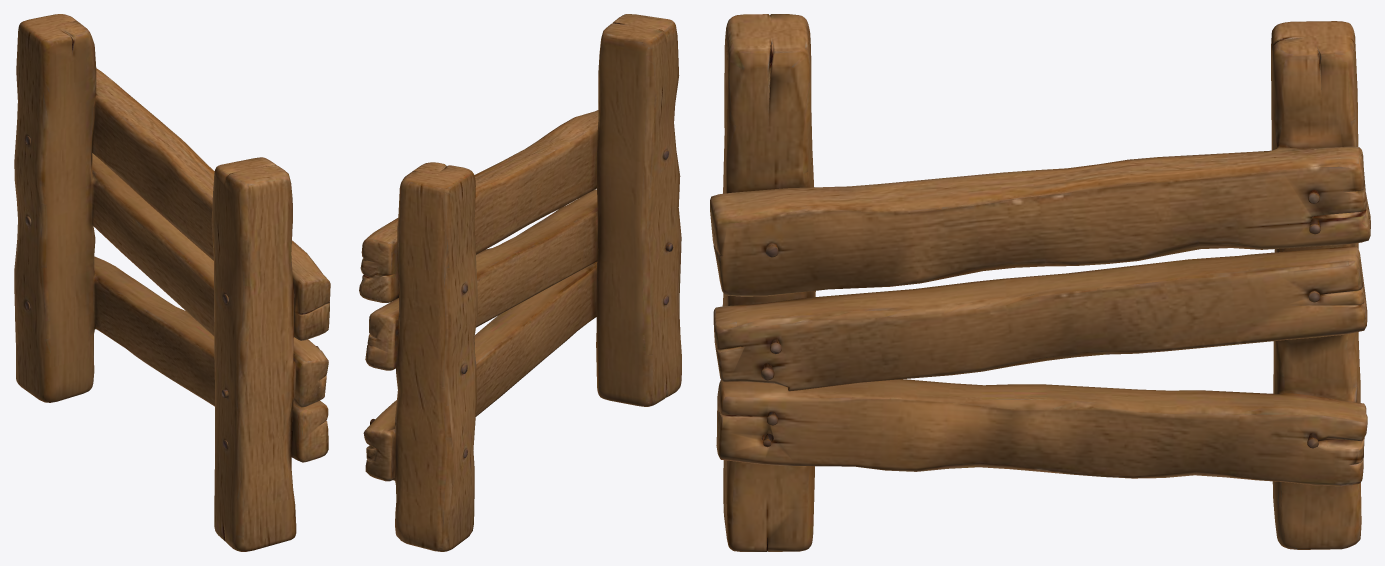
File: later_planks.glb
The picture shows the model from 3 angles, left to right: view 1: azimuth 30°, elevation 25°; view 2: azimuth 150°, elevation 25°; view 3: azimuth 270°, elevation 25°; orthographic projection. The views are drawn at different scales.
Parts seen in each view (by area): view 1: Model; view 2: Model; view 3: Model.
Boxes of the visible parts, left/top/right/bottom form: Model: left=14, top=14, right=330, bottom=551; Model: left=359, top=14, right=681, bottom=551; Model: left=710, top=14, right=1370, bottom=551.
Size of the model in its own units: 0.2388 by 0.8447 by 0.9995.
Materials: 1 (1 with a texture image).
